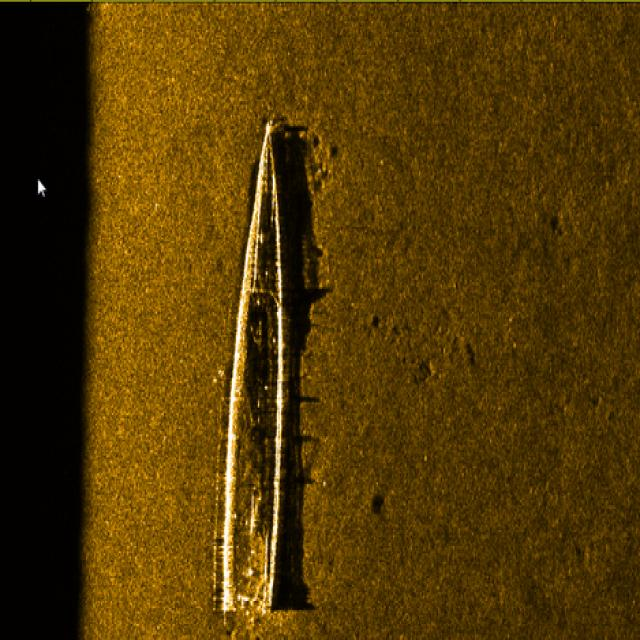ship: (210, 112, 292, 622)
